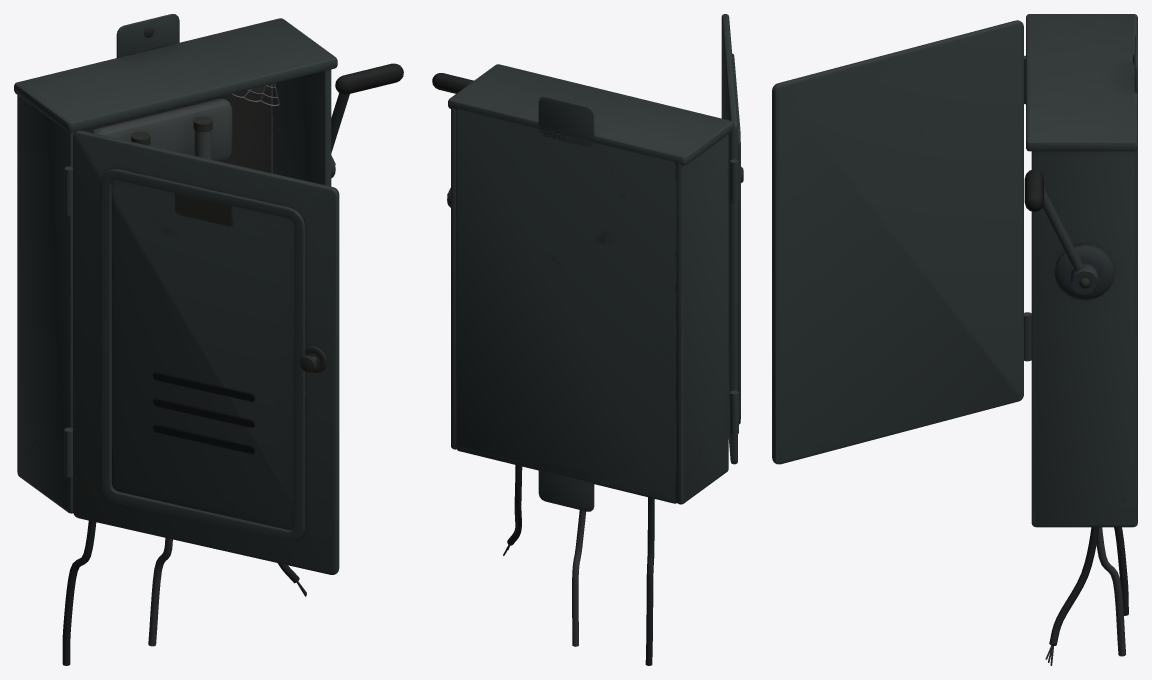
The model's file is fuse-box.glb.
3 renders of one model, left to right at view 1: azimuth 30°, elevation 25°; view 2: azimuth 150°, elevation 25°; view 3: azimuth 270°, elevation 25°, orthographic. The views are drawn at different scales.
Parts seen in each view (by area): view 1: fuse-box_door, fuse-box_body, fuse-box_lever; view 2: fuse-box_body, fuse-box_door, fuse-box_lever; view 3: fuse-box_door, fuse-box_body, fuse-box_lever.
Boxes of the visible parts, x1,y1,x2,y2 form: fuse-box_door: (73,130,339,574); fuse-box_body: (14,14,337,665); fuse-box_lever: (331,63,403,178); fuse-box_body: (448,64,738,665); fuse-box_door: (721,14,743,464); fuse-box_lever: (432,73,473,207); fuse-box_door: (772,20,1023,464); fuse-box_body: (1024,14,1137,665); fuse-box_lever: (1024,169,1098,294).
Bounding box in the file's own units: 0.5465 × 0.9497 × 0.5163.
5 materials, 3 textured.
